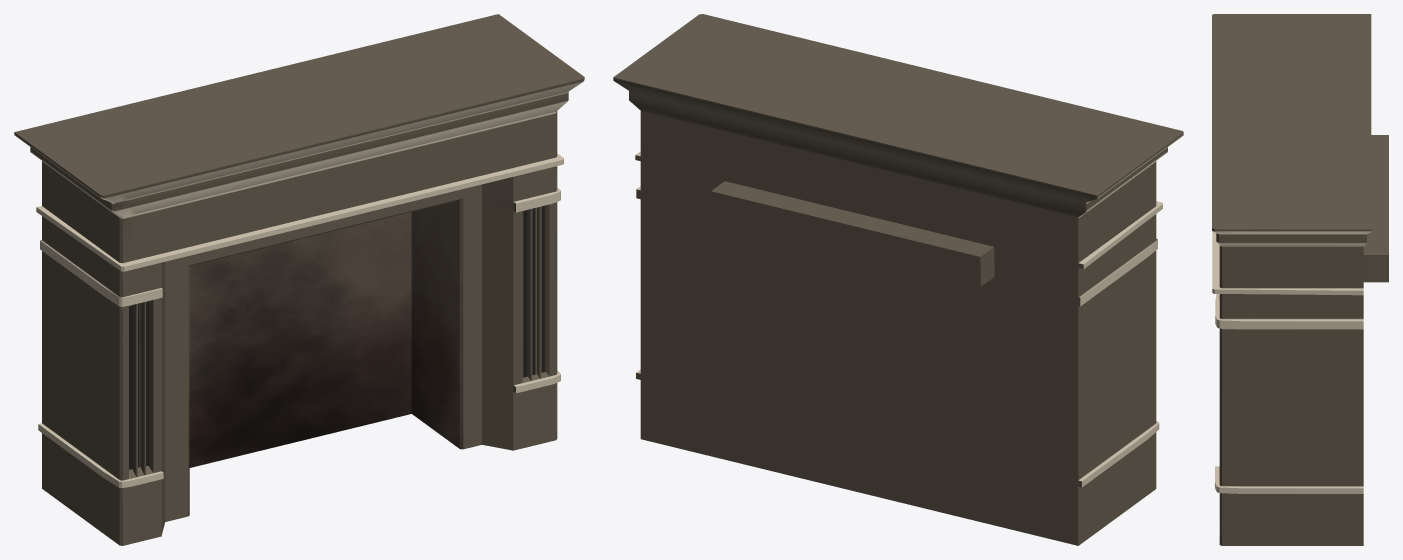
Rendered from Fireplace.fbx.
3 renders of one model, left to right at view 1: azimuth 30°, elevation 25°; view 2: azimuth 150°, elevation 25°; view 3: azimuth 270°, elevation 25°, orthographic. The views are drawn at different scales.
Visible parts, largest first — view 1: FirePlace; view 2: FirePlace; view 3: FirePlace.
Boxes of the visible parts, x1,y1,x2,y2 form: FirePlace: (14, 14, 584, 545); FirePlace: (613, 14, 1183, 545); FirePlace: (1212, 14, 1388, 545).
Size of the model in its own units: 9.1 by 6.45 by 3.16.
